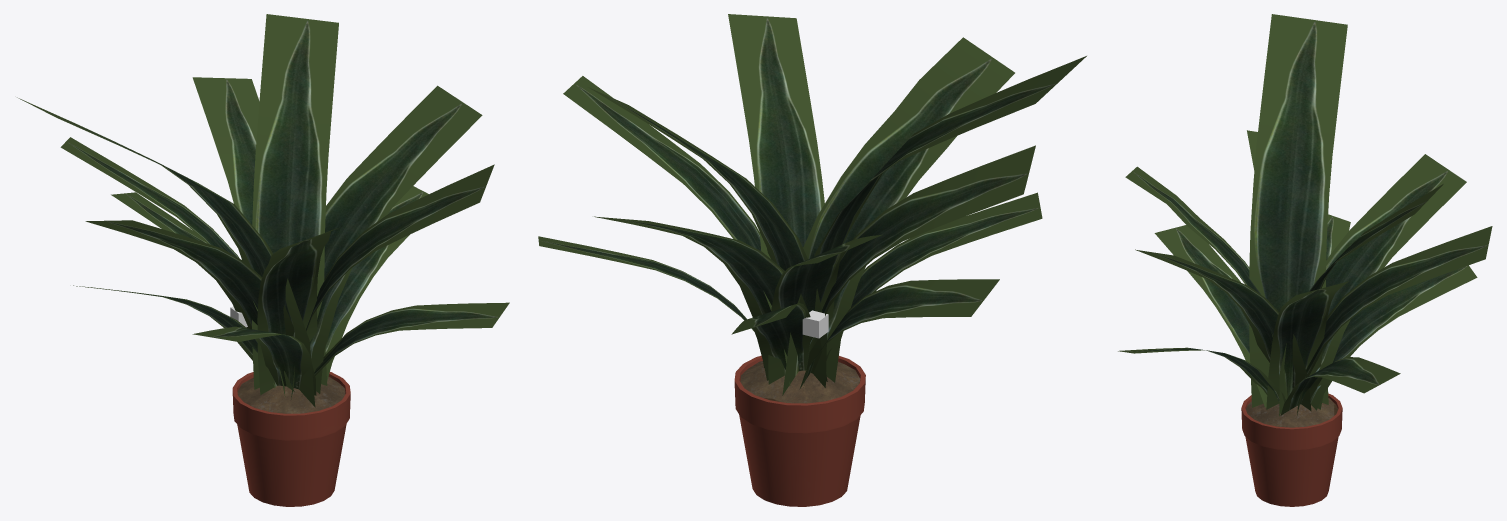
Rendered from plantetest.glb.
The picture shows the model from 3 angles, left to right: view 1: azimuth 30°, elevation 25°; view 2: azimuth 150°, elevation 25°; view 3: azimuth 270°, elevation 25°; orthographic projection. The views are drawn at different scales.
Visible parts, largest first — view 1: eb_house_plant_02; view 2: eb_house_plant_02, Cube; view 3: eb_house_plant_02.
Part boxes in pixels (bbox=[...]): eb_house_plant_02: bbox=[17, 14, 509, 506]; eb_house_plant_02: bbox=[538, 14, 1086, 506]; Cube: bbox=[802, 310, 828, 338]; eb_house_plant_02: bbox=[1118, 14, 1492, 506].
Bounding box in the file's own units: 59.45 × 56.73 × 51.6.
Materials: 2 (1 with a texture image).
